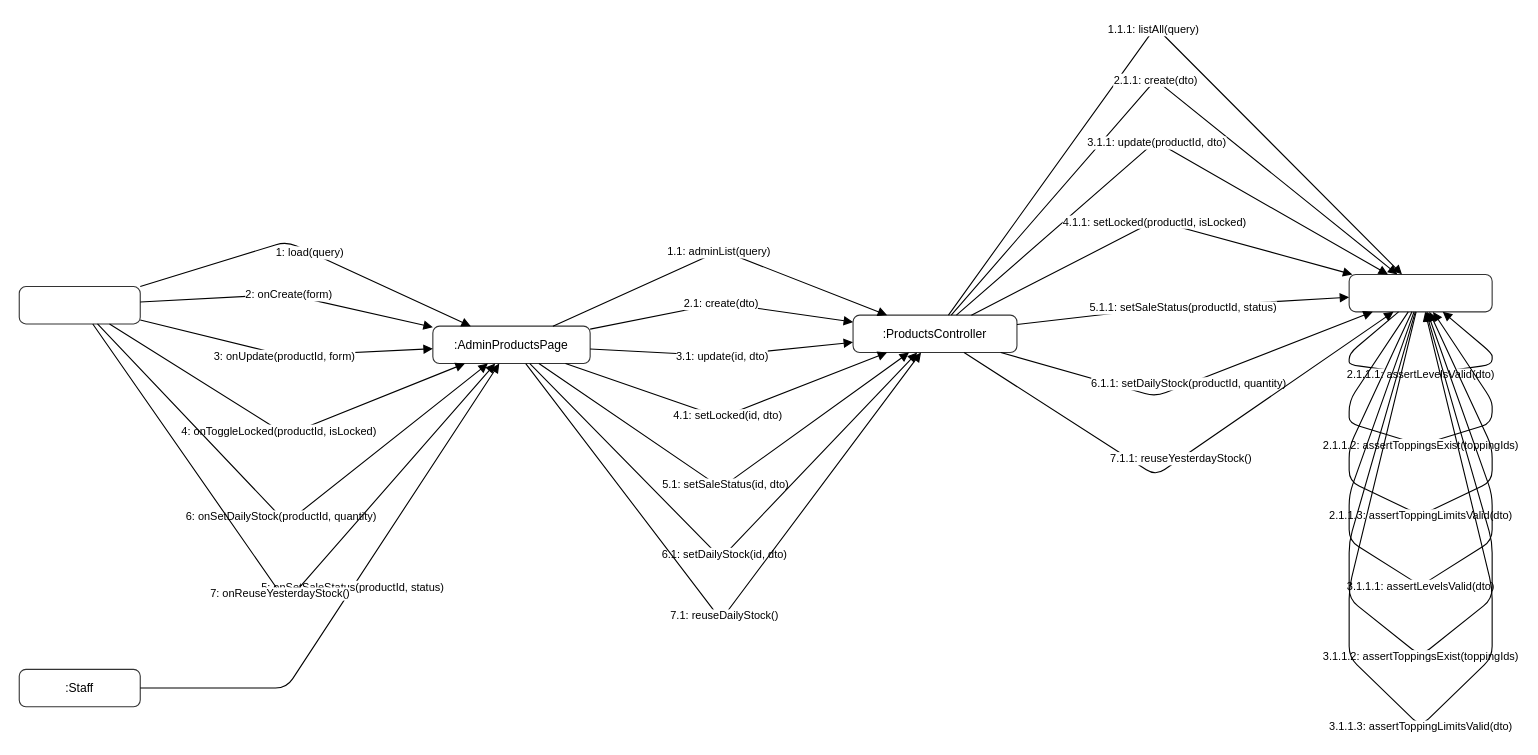
The diagram is 1538 pixels wide and 755 high, and some of its shapes have lost their labels. Here are the shapes that lost their labels. From the top down, the centre of each, then its label:
the point at 79,304: :Manager
the point at 1420,292: :ProductsService
